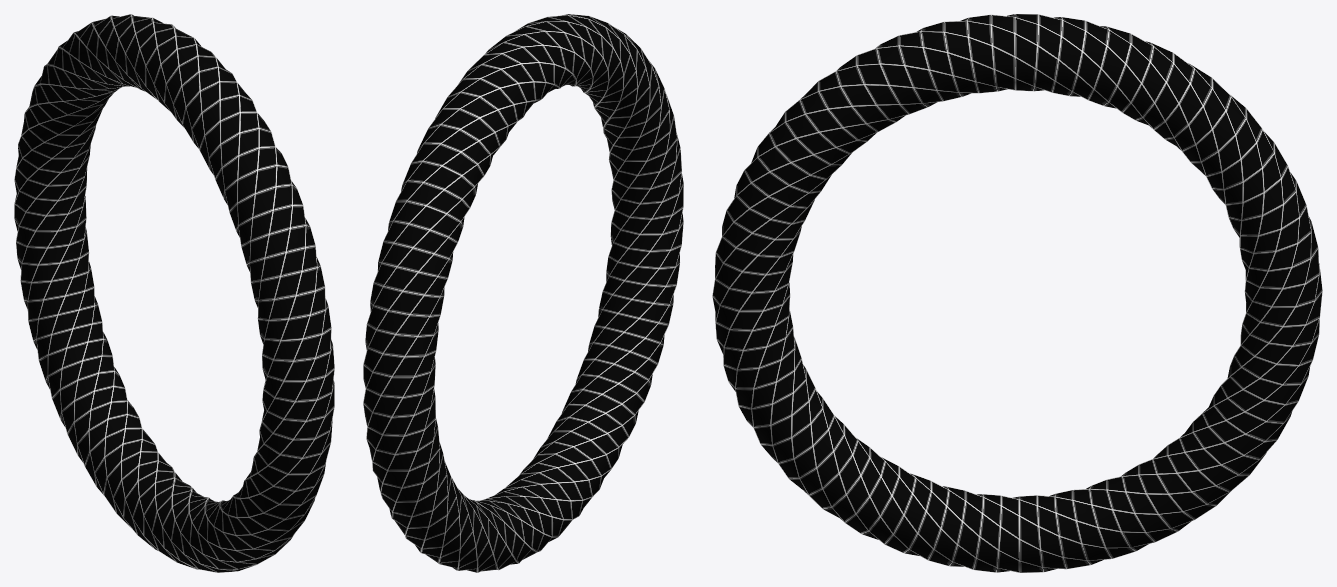
File: warp_tunnel.glb
The picture shows the model from 3 angles, left to right: view 1: azimuth 30°, elevation 25°; view 2: azimuth 150°, elevation 25°; view 3: azimuth 270°, elevation 25°; orthographic projection. The views are drawn at different scales.
Visible parts, largest first — view 1: Torus001_03 - Default_0; view 2: Torus001_03 - Default_0; view 3: Torus001_03 - Default_0.
Part boxes in pixels (x1,y1,x2,y2): Torus001_03 - Default_0: (14,14,334,572); Torus001_03 - Default_0: (363,14,683,572); Torus001_03 - Default_0: (712,14,1322,572).
Size of the model in its own units: 2.31 by 18.05 by 18.05.
1 material, 1 textured.
